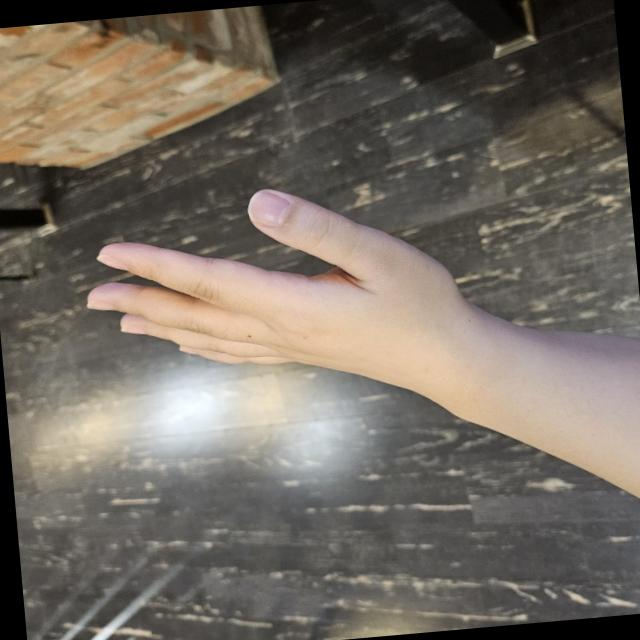Nail: (248, 189, 290, 226), (96, 251, 128, 270), (86, 299, 117, 309), (120, 323, 144, 333)
